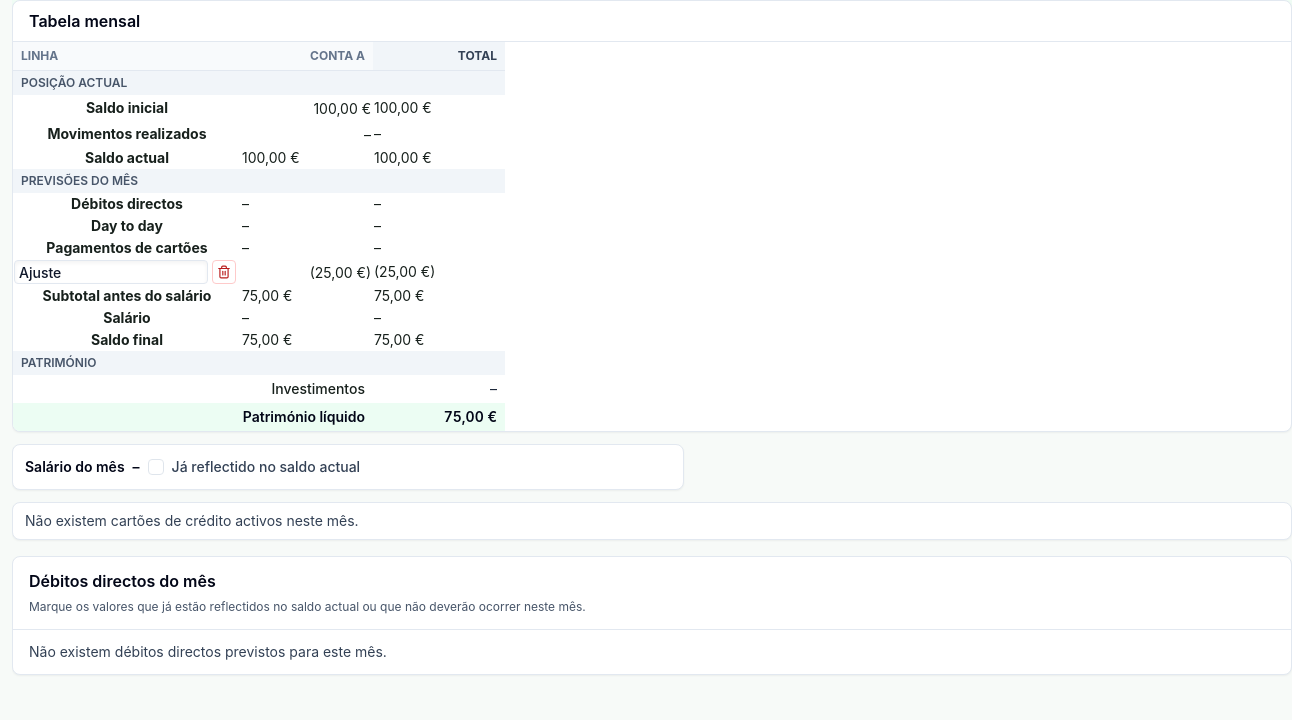
it: MonthlyBudgetTable › uses custom line values directly as signed amounts
Expected: the 3rd text "75,00 €" is shown, 241,329 -> 373,351
Replace the text in the field named "Ajuste — Conta A" with "25,00" at (307, 272), box 242,260 -> 372,284
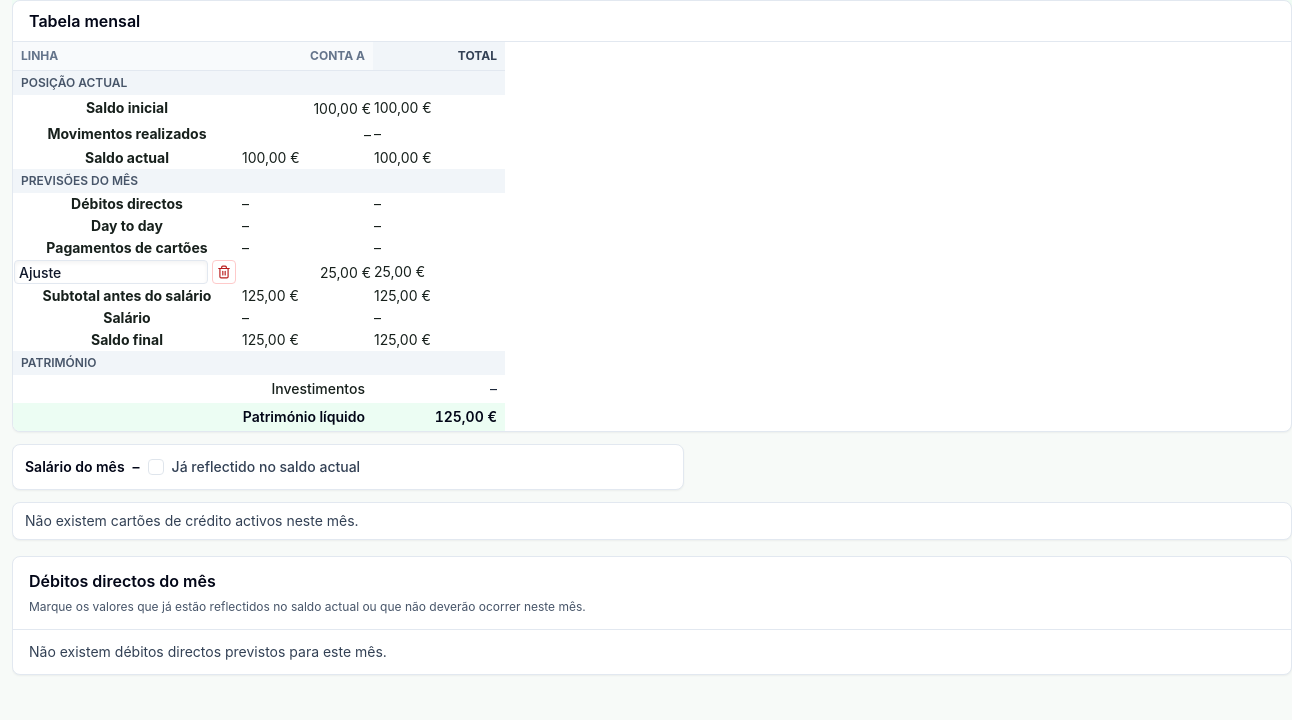
Now the 3rd text "125,00 €" is shown, box 241,329 -> 373,351
